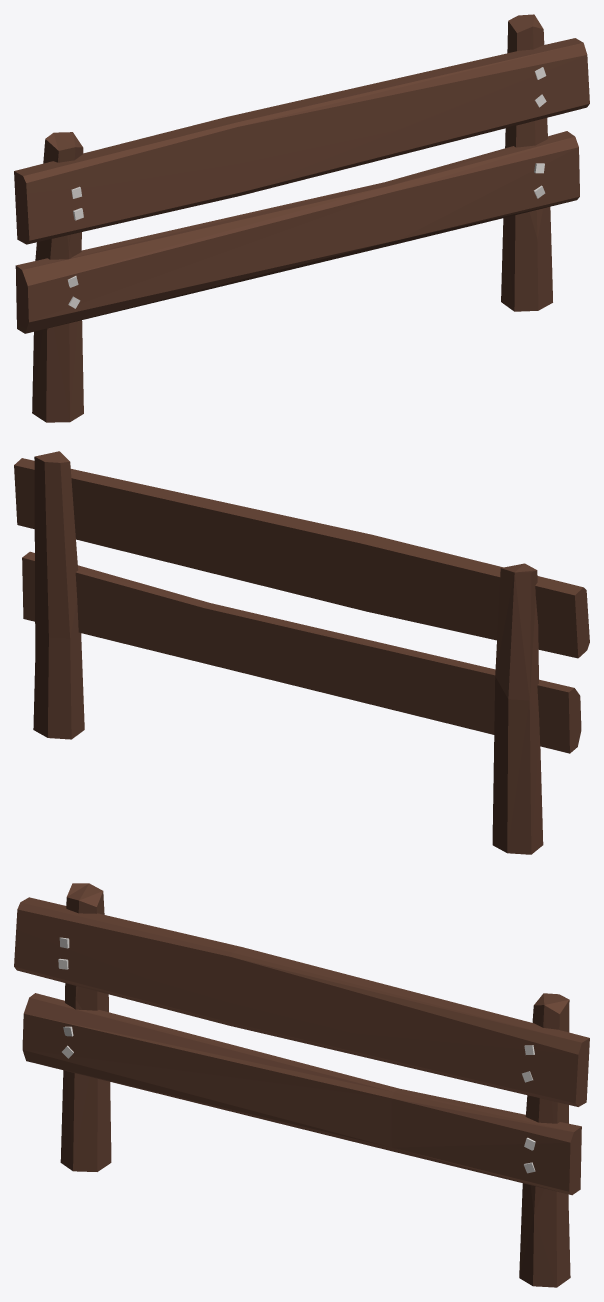
File: Fence_2 Island.fbx
3 renders of one model, top to bottom at view 1: azimuth 30°, elevation 25°; view 2: azimuth 150°, elevation 25°; view 3: azimuth 330°, elevation 25°, orthographic.
Visible parts, largest first — view 1: Fence_2; view 2: Fence_2; view 3: Fence_2.
Part boxes in pixels (x1,y1,x2,y2): Fence_2: (14, 14, 589, 422); Fence_2: (14, 451, 589, 854); Fence_2: (14, 883, 589, 1287).
Bounding box in the file's own units: 2.01 × 0.9493 × 0.2054.
